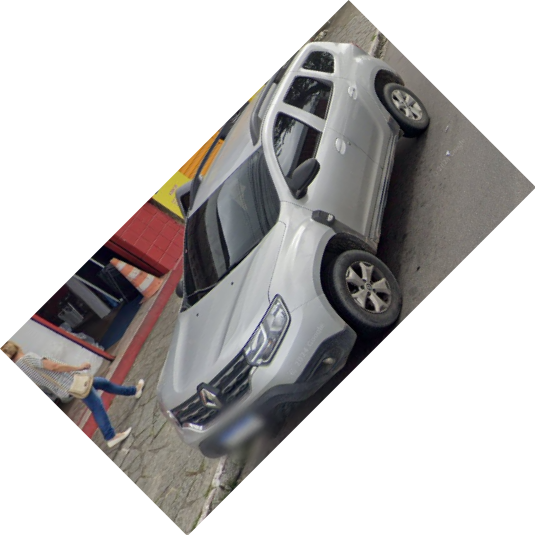car: (156, 41, 429, 453)
